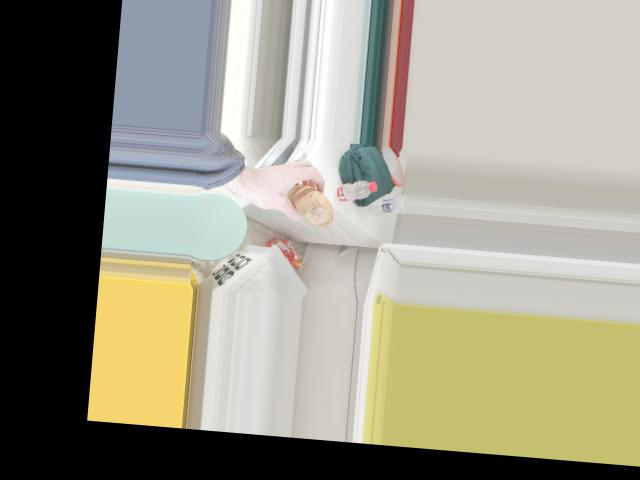sweet_potato: (285, 184, 337, 226)
